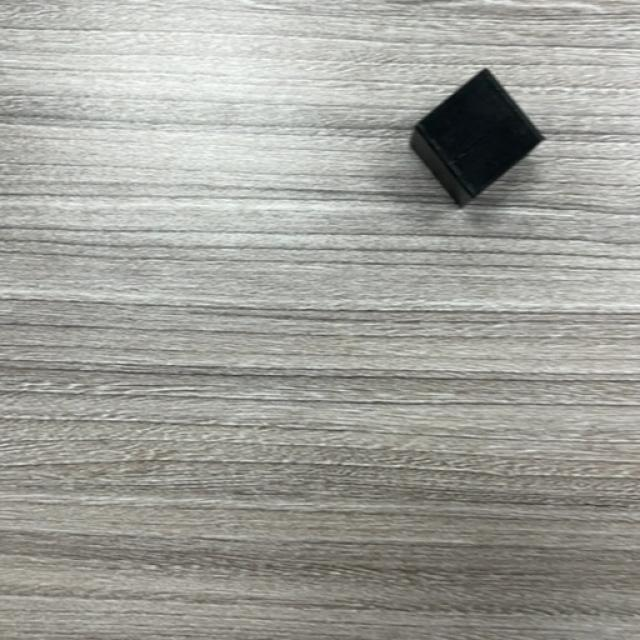Negro: (409, 69, 546, 209)
